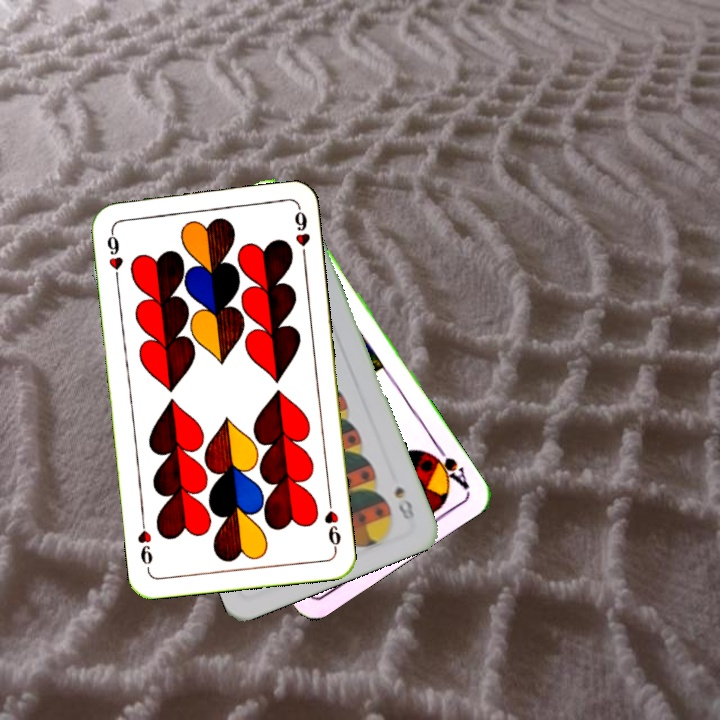H9: (102, 226, 126, 285), (320, 494, 343, 553)
S8: (390, 482, 417, 524)
SA: (423, 440, 472, 492)
